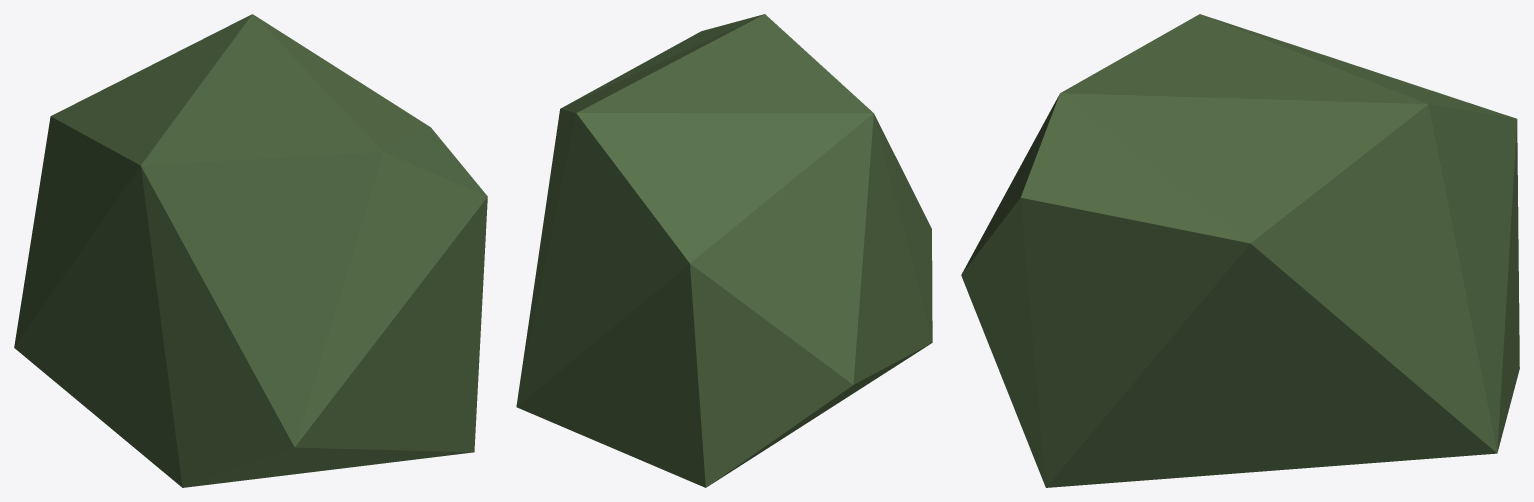
Rendered from BushBerries_1.lod4.glb.
The picture shows the model from 3 angles, left to right: view 1: azimuth 30°, elevation 25°; view 2: azimuth 150°, elevation 25°; view 3: azimuth 270°, elevation 25°; orthographic projection. The views are drawn at different scales.
Parts seen in each view (by area): view 1: BushBerries_1; view 2: BushBerries_1; view 3: BushBerries_1.
Boxes of the visible parts, box(x1,y1,x2,y2) form: BushBerries_1: box(14, 14, 487, 487); BushBerries_1: box(516, 14, 932, 487); BushBerries_1: box(961, 14, 1519, 487).
Size of the model in its own units: 1.39 by 1.19 by 1.67.
